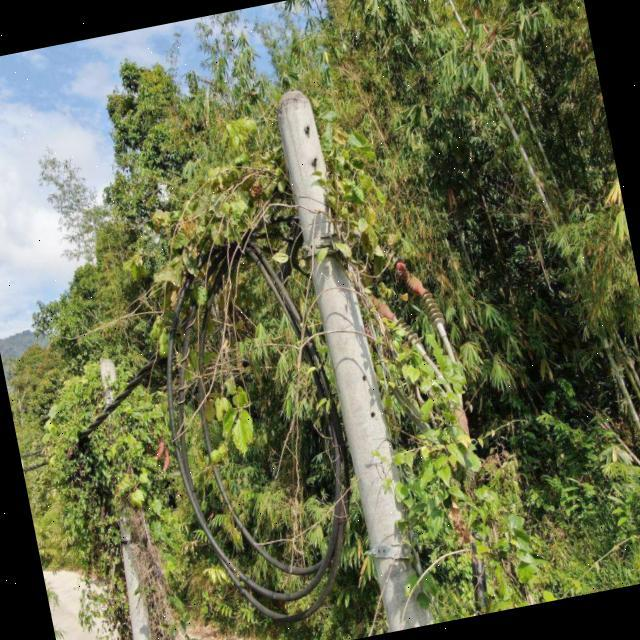critical vegetation: (101, 62, 510, 640)
